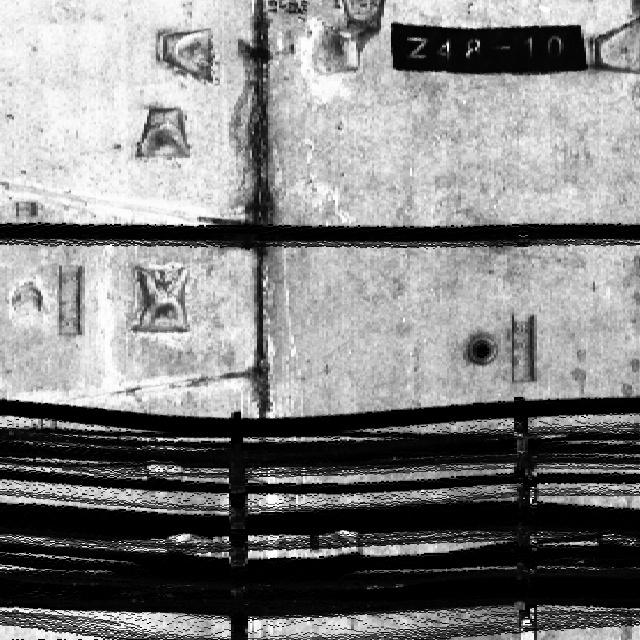leakage: (219, 2, 293, 229), (239, 330, 282, 419)
